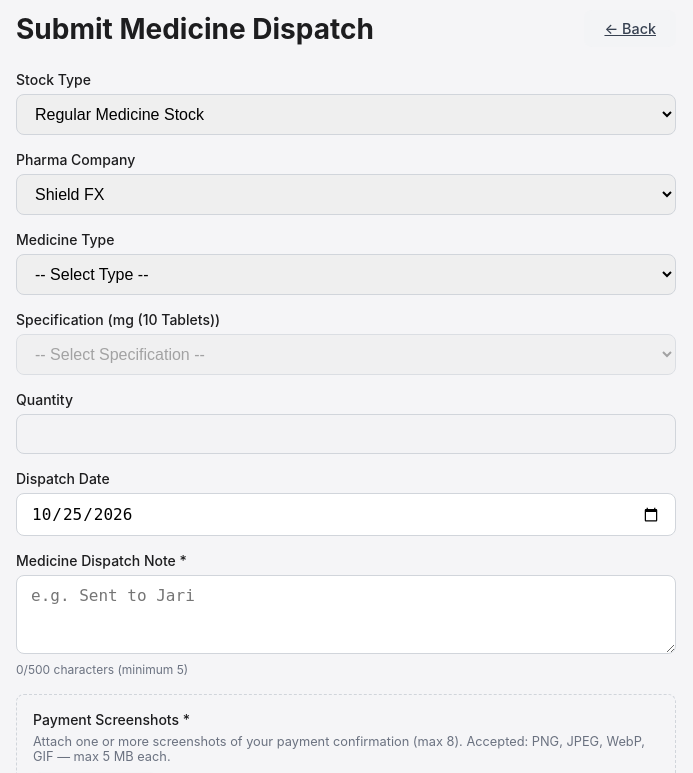
Scenario: Cascading select behaviour › shows max quantity hint when item is selected
Select "Shield FX" in the dropdown labelled "Pharma Company" at (346, 194), box [16, 174, 676, 215]
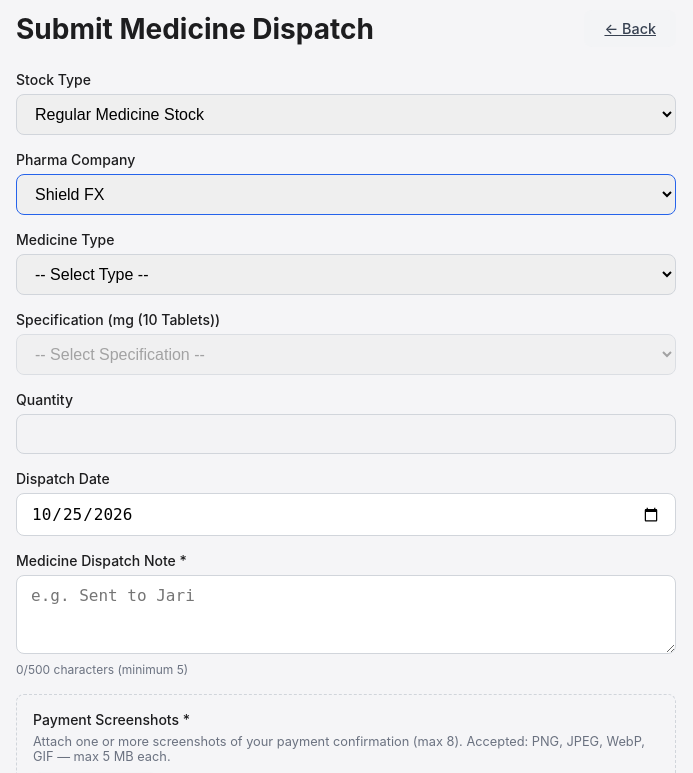
Select "VIAL" in the dropdown labelled "Medicine Type" at (346, 274), box [16, 254, 676, 295]
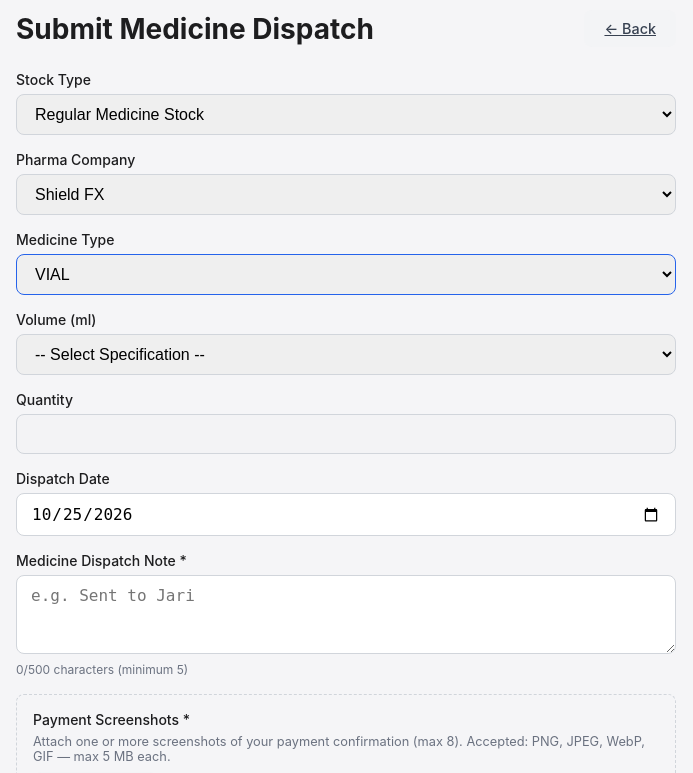
Select "10 ml" in the dropdown labelled "Volume (ml)" at (346, 354), box [16, 334, 676, 375]
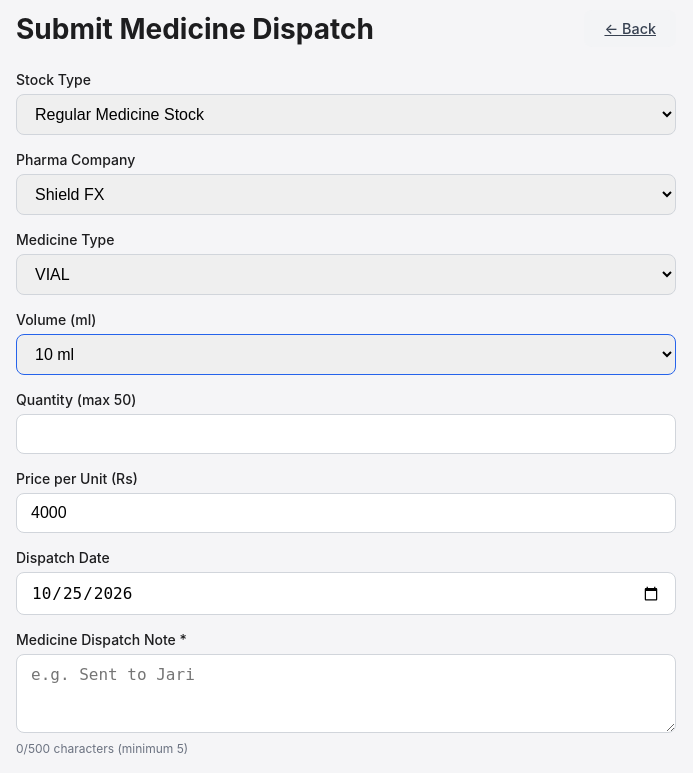
expect the text "Quantity (max 50)" is shown: met, box [16, 391, 136, 408]
